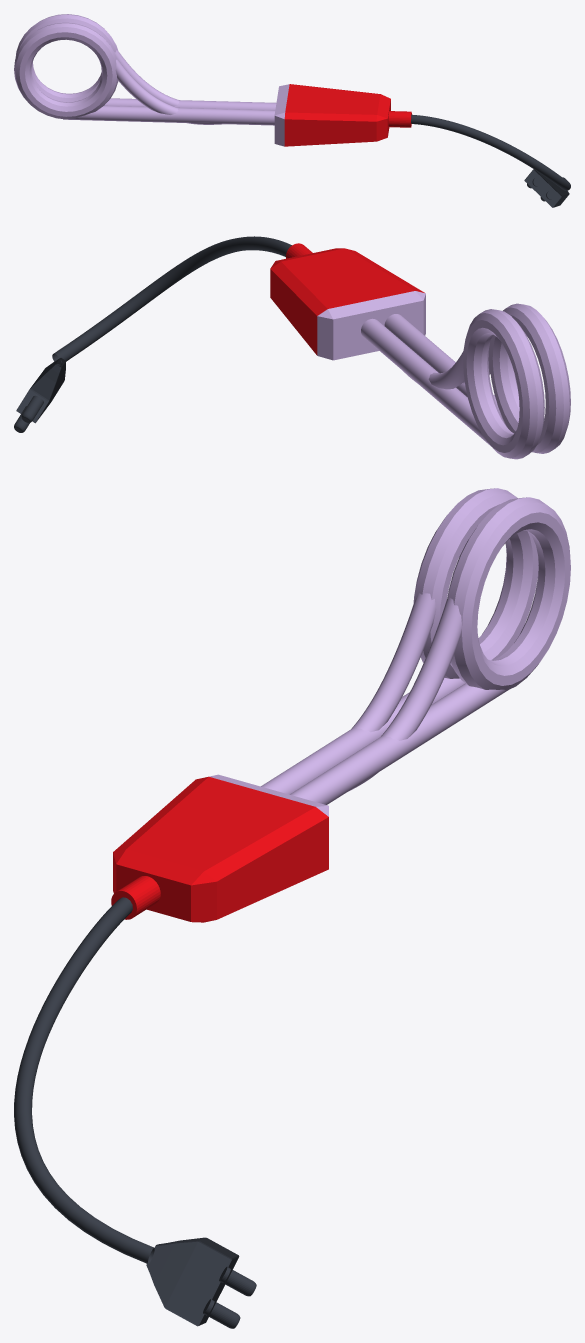
File: КИПЯТИЛЬНИК.fbx
The picture shows the model from 3 angles, top to bottom: view 1: azimuth 30°, elevation 25°; view 2: azimuth 150°, elevation 25°; view 3: azimuth 270°, elevation 25°; orthographic projection. The views are drawn at different scales.
Parts seen in each view (by area): view 1: Torus.007, Куб.005, ТраекторияNurbs.005, ТраекторияNurbs.011, Цилиндр.003, Цилиндр.126; view 2: Torus.007, Куб.005, ТраекторияNurbs.005, Цилиндр.003, ТраекторияNurbs.011; view 3: Torus.007, Куб.005, ТраекторияNurbs.005, ТраекторияNurbs.011, Цилиндр.003, Цилиндр.126.
Boxes of the visible parts, box(x1,y1,x2,y2) form: Torus.007: box(14, 14, 276, 125); Куб.005: box(274, 84, 390, 146); ТраекторияNurbs.005: box(411, 114, 570, 190); ТраекторияNurbs.011: box(114, 50, 225, 124); Цилиндр.003: box(524, 169, 569, 207); Цилиндр.126: box(388, 111, 411, 127); Torus.007: box(361, 303, 570, 459); Куб.005: box(270, 248, 425, 360); ТраекторияNurbs.005: box(52, 236, 291, 365); Цилиндр.003: box(14, 358, 66, 432); ТраекторияNurbs.011: box(403, 346, 490, 389); Torus.007: box(261, 488, 570, 804); Куб.005: box(113, 774, 328, 922); ТраекторияNurbs.005: box(14, 897, 154, 1264); ТраекторияNurbs.011: box(349, 593, 462, 790); Цилиндр.003: box(146, 1237, 256, 1328); Цилиндр.126: box(111, 876, 160, 919).
Size of the model in its own units: 205 by 98.43 by 111.
